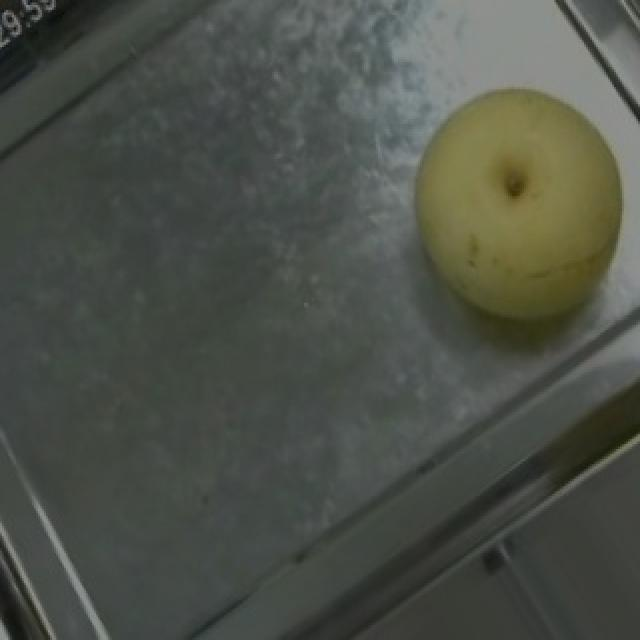Fruit: (370, 44, 640, 360)
